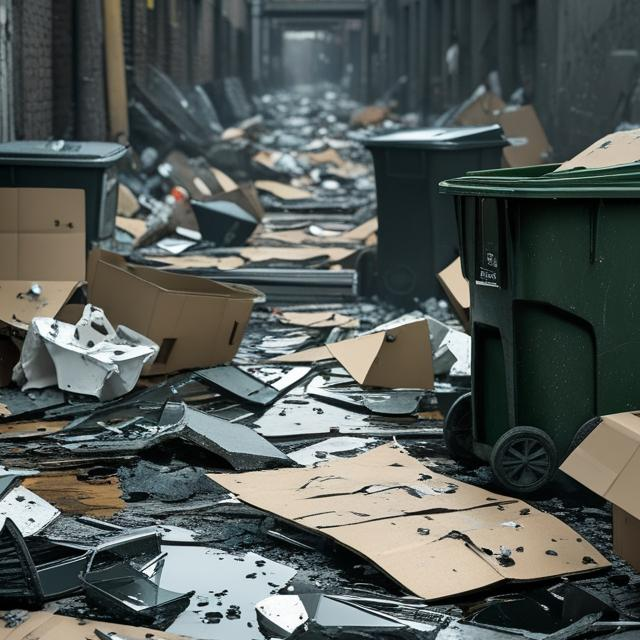plastic: (463, 173, 640, 404)
